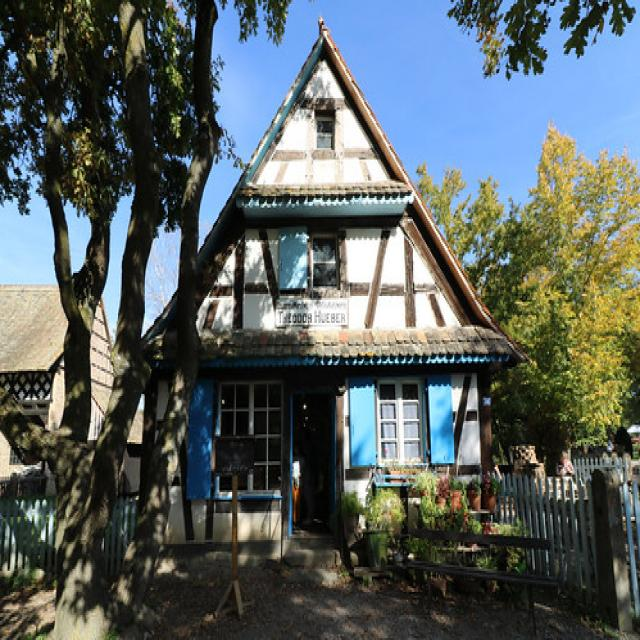Normal_building: (146, 21, 525, 579)
